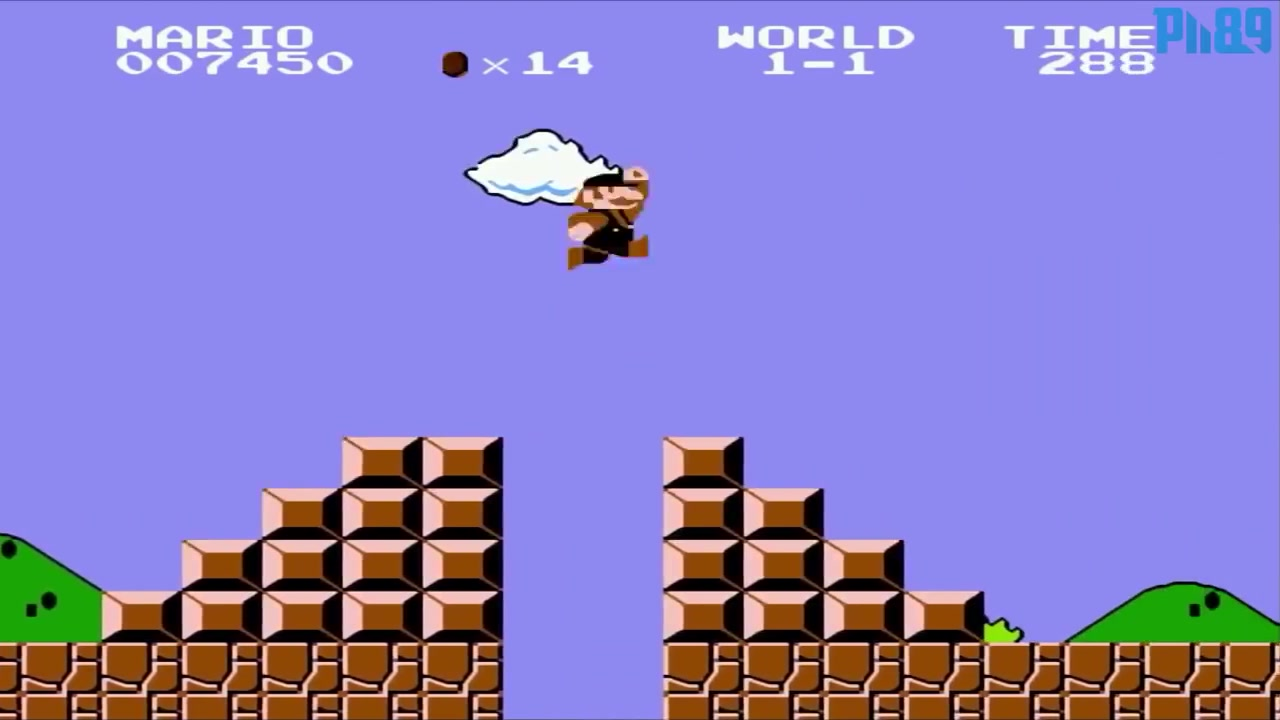mario: (555, 160, 658, 281)
